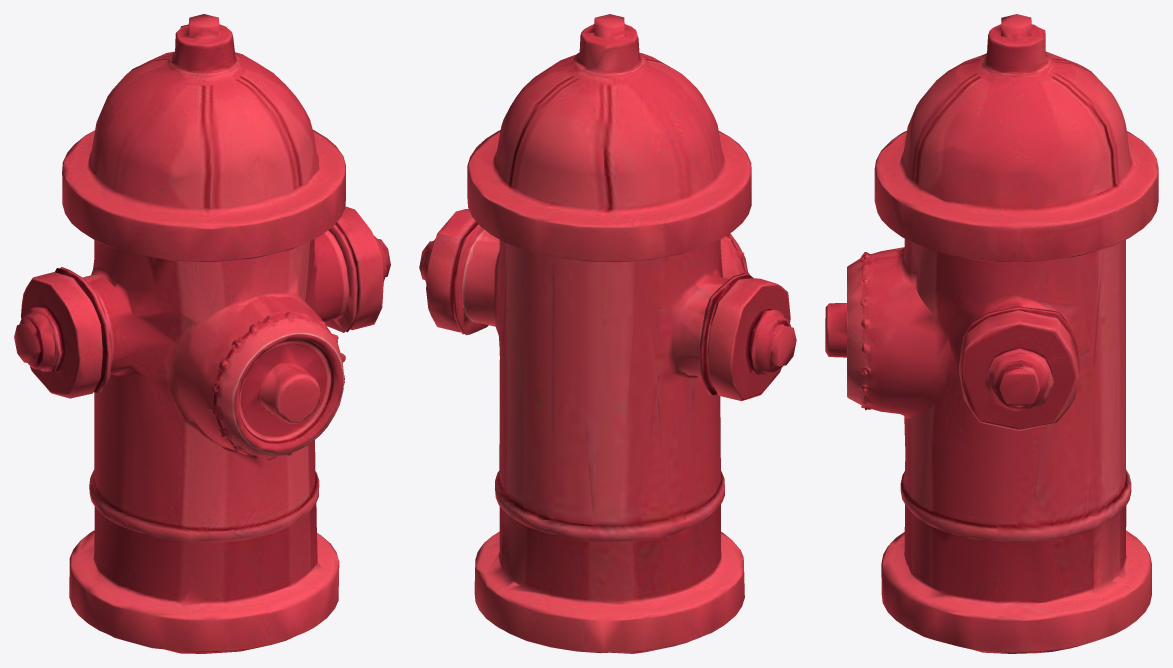
Rendered from hydrant-512.glb.
The picture shows the model from 3 angles, left to right: view 1: azimuth 30°, elevation 25°; view 2: azimuth 150°, elevation 25°; view 3: azimuth 270°, elevation 25°; orthographic projection.
Bounding box in the file's own units: 1.21 × 1.9 × 0.9804.
1 material, 1 textured.
